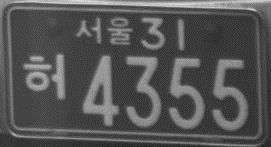1: (173, 17, 188, 51)
3: (124, 54, 163, 128), (140, 15, 166, 51)
4: (80, 54, 121, 128)
5: (211, 57, 250, 132), (168, 56, 207, 130)
서울_O: (75, 16, 134, 48)
허: (22, 51, 68, 101)
